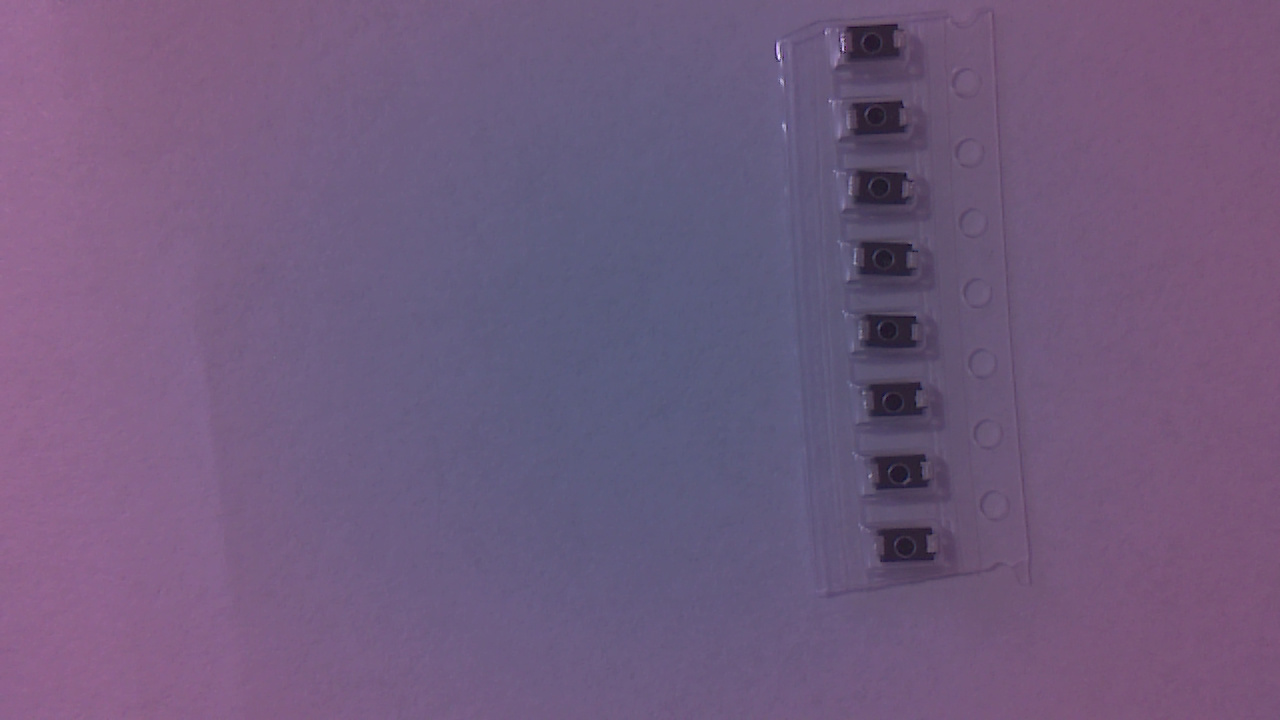Diode: (840, 25, 912, 68), (877, 528, 944, 572), (848, 172, 919, 211), (848, 103, 917, 143), (859, 243, 926, 284), (861, 316, 929, 355), (869, 385, 936, 422), (875, 457, 938, 494)
